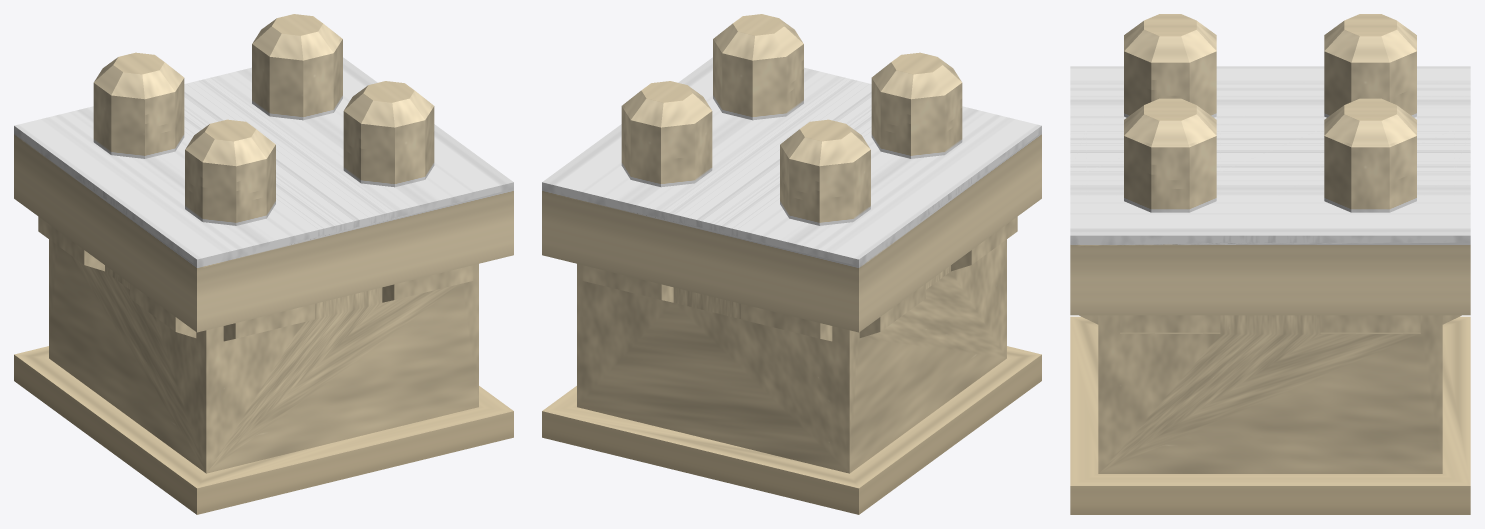
3 renders of one model, left to right at view 1: azimuth 30°, elevation 25°; view 2: azimuth 150°, elevation 25°; view 3: azimuth 270°, elevation 25°, orthographic. The views are drawn at different scales.
Visible parts, largest first — view 1: wall; view 2: wall; view 3: wall.
Boxes of the visible parts, bbox=[...] form: wall: bbox=[14, 14, 513, 514]; wall: bbox=[542, 14, 1041, 514]; wall: bbox=[1070, 14, 1470, 514].
Size of the model in its own units: 1 by 1 by 1.
Materials: 1 (1 with a texture image).
